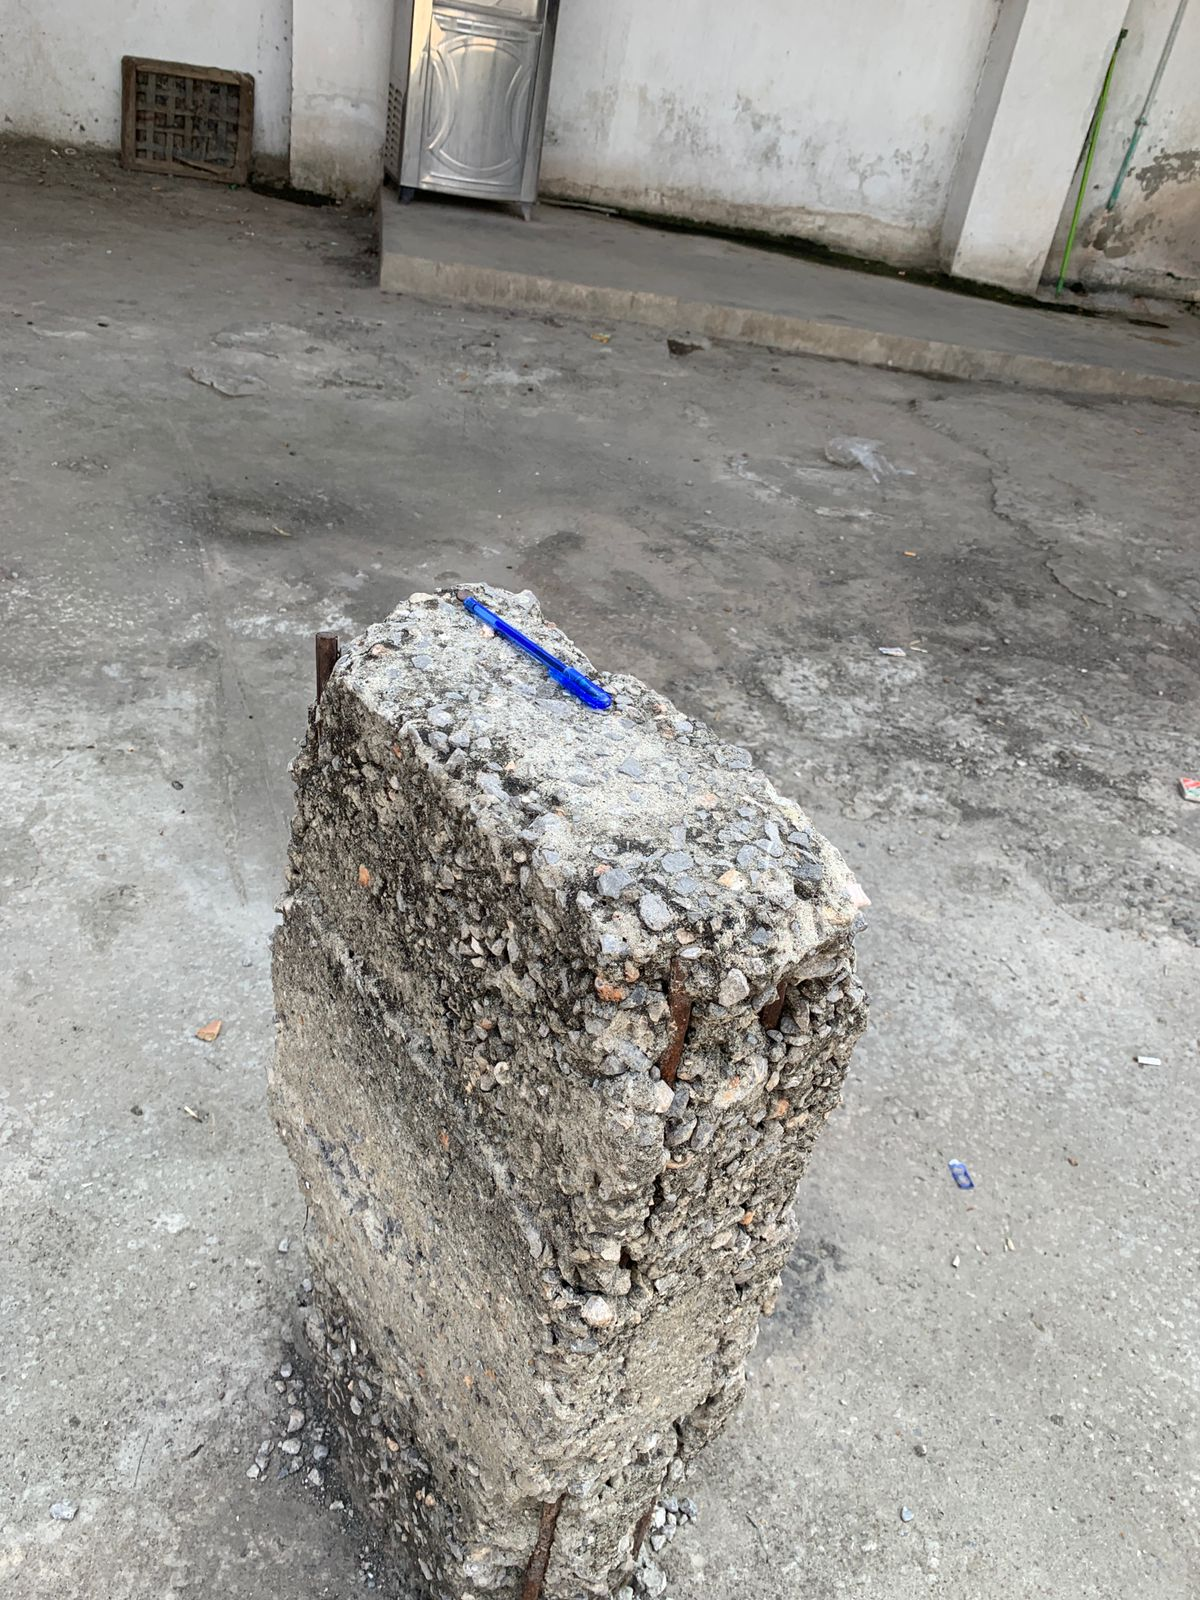pen: (429, 569, 625, 716)
